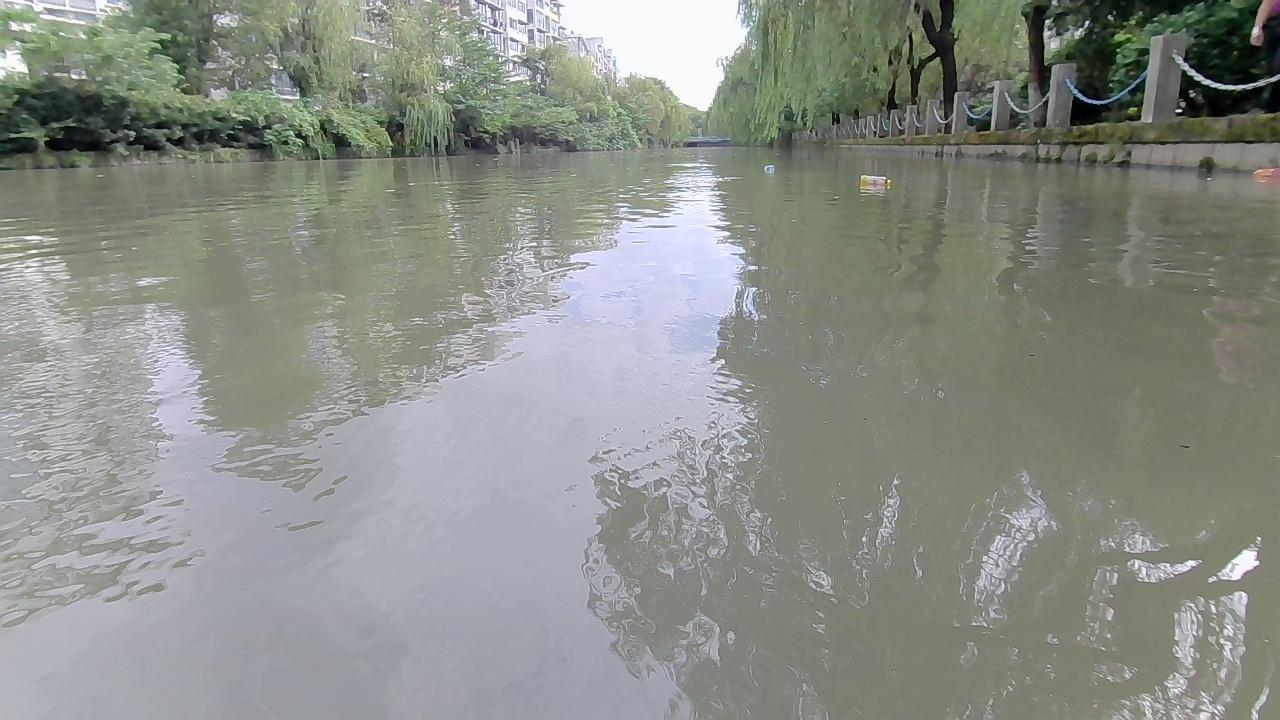bottle: (860, 168, 898, 192), (1251, 164, 1279, 180), (763, 162, 775, 177)
